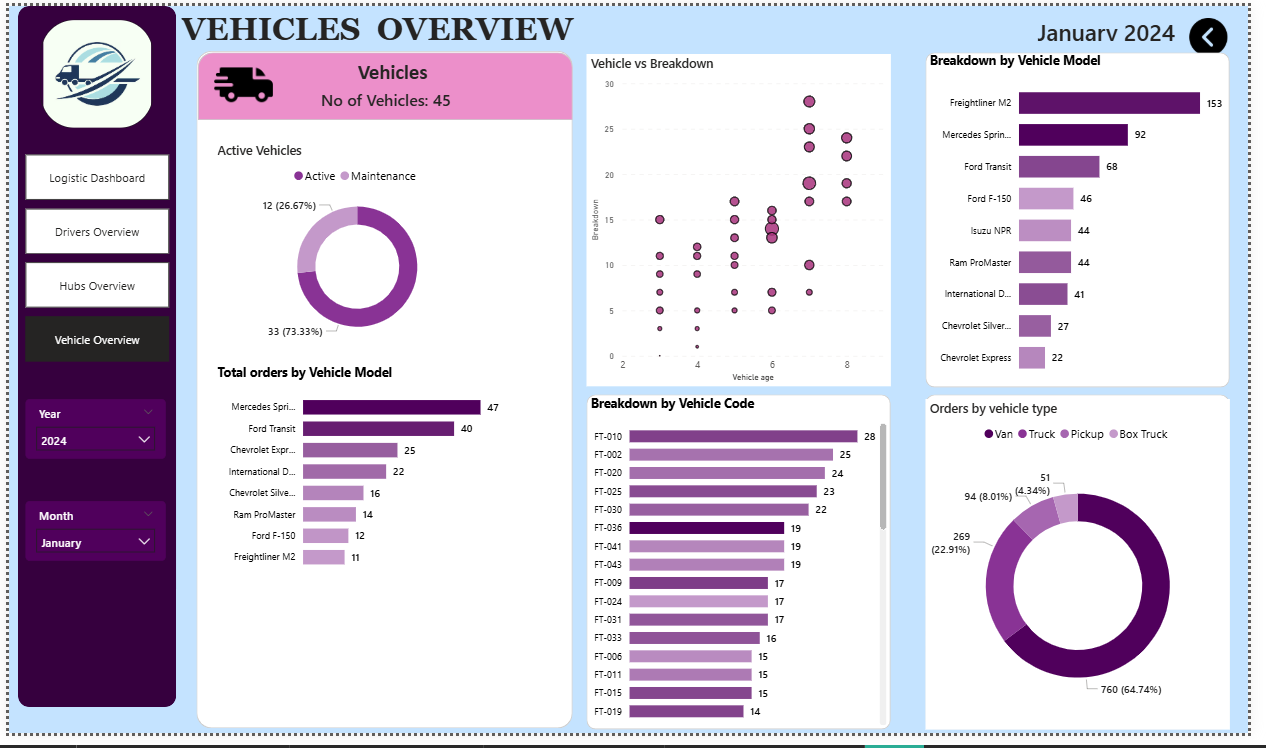

What the dashboard file says about the page in this screenshot:
{"tool":"powerbi","page":{"name":"Vehicle Overview","canvas":[1450,850],"ordinal":3},"visuals":[{"type":"shape","box":[10,0,185,820],"z":0},{"type":"textbox","box":[195.9,0,479.4,58.4],"z":1000},{"type":"slicer","fields":{"Values":["Date table.Year"]},"box":[20,459.5,164,70],"z":2000},{"type":"slicer","fields":{"Values":["Date table.Month"]},"box":[20,579.5,164,70],"z":3000},{"type":"image","box":[36.1,15.5,132.3,127.2],"z":4000},{"type":"cardVisual","fields":{"Data":["Orders.Year month title"]},"box":[1115.2,0,335.1,58.4],"z":5000},{"type":"shape","box":[1072.3,453.6,355.7,391.8],"z":6000},{"type":"image","box":[1354.1,13.7,96.2,44.7],"z":7000},{"type":"shape","box":[220,53.3,439.9,792.2],"z":8000},{"type":"shape","box":[221.7,55,438.2,79],"z":9000},{"type":"textbox","box":[305.9,58.4,261.2,46.4],"z":10000},{"type":"cardVisual","fields":{"Data":["Vehicles.No of vehicles"]},"box":[274.9,75.6,331.6,67],"z":11000},{"type":"donutChart","title":"Active Vehicles ","fields":{"Category":["Vehicles.Vehicle Status"],"Y":["CountNonNull(Vehicles.Vehicle ID)"]},"box":[239.4,158.7,336.8,244],"z":12000},{"type":"barChart","fields":{"Category":["Vehicles.Vehicle Model"],"Y":["Orders.Total orders"]},"box":[239.4,418.1,342,250.9],"z":13000},{"type":"shape","box":[1072.3,55,355.7,391.8],"z":14000},{"type":"scatterChart","title":"Vehicle vs Breakdown ","fields":{"X":["Vehicles.Vehicle age"],"Y":["Vehicles.Breakdown"],"Size":["Sum(Vehicles.Breakdown)1"]},"box":[675.3,56.7,355.7,388.4],"z":15000},{"type":"shape","box":[675.3,453.6,355.7,391.8],"z":16000},{"type":"barChart","title":"Breakdown by Vehicle Code","fields":{"Category":["Vehicles.Vehicle Code"],"Y":["Sum(Vehicles.Breakdown)"]},"box":[675.3,453.6,355.7,391.8],"z":16001},{"type":"barChart","title":"Breakdown by Vehicle Model","fields":{"Y":["Sum(Vehicles.Breakdown)"],"Category":["Vehicles.Vehicle Model"]},"box":[1072.3,53.3,355.7,391.8],"z":16002},{"type":"donutChart","title":"Orders by vehicle type","fields":{"Category":["Orders.Vehicle Type"],"Y":["Orders.Total orders"]},"box":[1072.3,458.8,355.7,386.6],"z":16003},{"type":"pageNavigator","box":[18.9,173.6,168.4,244],"z":16004},{"type":"image","box":[220,58.4,110,68.7],"z":16005}]}

Visuals, with their boxes on the page's 1450x850 design canvas (x1, y1, x2, y2). These are canvas units, not pixel positions in the 1266x748 screenshot, which may show the page scaled, cropped or inside an application window:
shape: (left=10, top=0, right=195, bottom=820)
textbox: (left=196, top=0, right=675, bottom=58)
slicer - Date table.Year: (left=20, top=460, right=184, bottom=530)
slicer - Date table.Month: (left=20, top=580, right=184, bottom=650)
image: (left=36, top=16, right=168, bottom=143)
cardVisual - Orders.Year month title: (left=1115, top=0, right=1450, bottom=58)
shape: (left=1072, top=454, right=1428, bottom=845)
image: (left=1354, top=14, right=1450, bottom=58)
shape: (left=220, top=53, right=660, bottom=846)
shape: (left=222, top=55, right=660, bottom=134)
textbox: (left=306, top=58, right=567, bottom=105)
cardVisual - Vehicles.No of vehicles: (left=275, top=76, right=606, bottom=143)
"Active Vehicles " donutChart: (left=239, top=159, right=576, bottom=403)
barChart - Vehicles.Vehicle Model x Orders.Total orders: (left=239, top=418, right=581, bottom=669)
shape: (left=1072, top=55, right=1428, bottom=447)
"Vehicle vs Breakdown " scatterChart: (left=675, top=57, right=1031, bottom=445)
shape: (left=675, top=454, right=1031, bottom=845)
"Breakdown by Vehicle Code" barChart: (left=675, top=454, right=1031, bottom=845)
"Breakdown by Vehicle Model" barChart: (left=1072, top=53, right=1428, bottom=445)
"Orders by vehicle type" donutChart: (left=1072, top=459, right=1428, bottom=845)
pageNavigator: (left=19, top=174, right=187, bottom=418)
image: (left=220, top=58, right=330, bottom=127)
